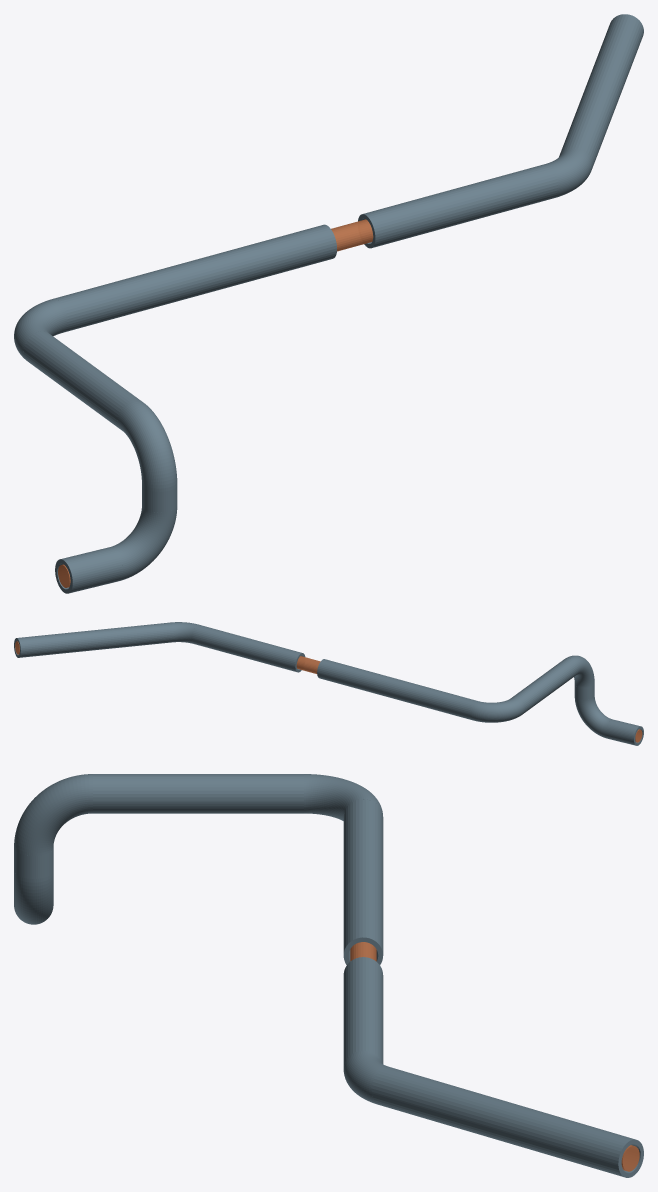
Rendered from L349_CLASS01_NATIVE_FEED_EDU.glb.
The picture shows the model from 3 angles, top to bottom: view 1: azimuth 30°, elevation 25°; view 2: azimuth 150°, elevation 25°; view 3: azimuth 270°, elevation 25°; orthographic projection. The views are drawn at different scales.
Parts seen in each view (by area): view 1: CLASS-01_FEED_LINE_SEG04_NATIVE_L349, CLASS-01_FEED_LINE_SEG04_DOWNSTREAM_L33_NATIVE_EDU_NATIVE_L3, CLASS-01_FEED_LINE_SEG05_NATIVE_L349, CLASS-01_FEED_LINE_SEG03_NATIVE_L349, CLASS-01_FEED_LINE_ELBOW_02_NATIVE_L349, CLASS-01_FEED_LINE_ELBOW_01_NATIVE_L349, CLASS-01_FEED_LINE_SEG01_NATIVE_L349, CLASS-01_FEED_LINE_ELBOW_03_NATIVE_L349, CLASS-01_FEED_LINE_ELBOW_04_NATIVE_L349, CLASS-01_FEED_LINE_FLUID_SEG04_NATIVE_L349; view 2: CLASS-01_FEED_LINE_SEG04_NATIVE_L349, CLASS-01_FEED_LINE_SEG05_NATIVE_L349, CLASS-01_FEED_LINE_SEG04_DOWNSTREAM_L33_NATIVE_EDU_NATIVE_L3, CLASS-01_FEED_LINE_SEG03_NATIVE_L349, CLASS-01_FEED_LINE_ELBOW_03_NATIVE_L349, CLASS-01_FEED_LINE_ELBOW_01_NATIVE_L349, CLASS-01_FEED_LINE_SEG01_NATIVE_L349, CLASS-01_FEED_LINE_ELBOW_02_NATIVE_L349, CLASS-01_FEED_LINE_ELBOW_04_NATIVE_L349, CLASS-01_FEED_LINE_FLUID_SEG04_NATIVE_L349, CLASS-01_FEED_LINE_SEG02_NATIVE_L349; view 3: CLASS-01_FEED_LINE_SEG05_NATIVE_L349, CLASS-01_FEED_LINE_SEG03_NATIVE_L349, CLASS-01_FEED_LINE_SEG04_NATIVE_L349, CLASS-01_FEED_LINE_SEG04_DOWNSTREAM_L33_NATIVE_EDU_NATIVE_L3, CLASS-01_FEED_LINE_ELBOW_02_NATIVE_L349, CLASS-01_FEED_LINE_ELBOW_03_NATIVE_L349, CLASS-01_FEED_LINE_ELBOW_01_NATIVE_L349, CLASS-01_FEED_LINE_ELBOW_04_NATIVE_L349, CLASS-01_FEED_LINE_SEG02_NATIVE_L349.
Part boxes in pixels (<box>): CLASS-01_FEED_LINE_SEG04_NATIVE_L349: <box>54,224,336,332</box>; CLASS-01_FEED_LINE_SEG04_DOWNSTREAM_L33_NATIVE_EDU_NATIVE_L3: <box>358,164,558,248</box>; CLASS-01_FEED_LINE_SEG05_NATIVE_L349: <box>559,14,643,168</box>; CLASS-01_FEED_LINE_SEG03_NATIVE_L349: <box>23,331,141,429</box>; CLASS-01_FEED_LINE_ELBOW_02_NATIVE_L349: <box>118,400,177,491</box>; CLASS-01_FEED_LINE_ELBOW_01_NATIVE_L349: <box>111,506,177,580</box>; CLASS-01_FEED_LINE_SEG01_NATIVE_L349: <box>55,547,122,593</box>; CLASS-01_FEED_LINE_ELBOW_03_NATIVE_L349: <box>14,298,66,360</box>; CLASS-01_FEED_LINE_ELBOW_04_NATIVE_L349: <box>546,148,592,197</box>; CLASS-01_FEED_LINE_FLUID_SEG04_NATIVE_L349: <box>331,219,373,251</box>; CLASS-01_FEED_LINE_SEG04_NATIVE_L349: <box>317,659,476,719</box>; CLASS-01_FEED_LINE_SEG05_NATIVE_L349: <box>14,622,174,657</box>; CLASS-01_FEED_LINE_SEG04_DOWNSTREAM_L33_NATIVE_EDU_NATIVE_L3: <box>191,624,305,672</box>; CLASS-01_FEED_LINE_SEG03_NATIVE_L349: <box>512,658,578,713</box>; CLASS-01_FEED_LINE_ELBOW_03_NATIVE_L349: <box>470,697,524,722</box>; CLASS-01_FEED_LINE_ELBOW_01_NATIVE_L349: <box>574,696,611,738</box>; CLASS-01_FEED_LINE_SEG01_NATIVE_L349: <box>605,719,643,745</box>; CLASS-01_FEED_LINE_ELBOW_02_NATIVE_L349: <box>565,655,594,687</box>; CLASS-01_FEED_LINE_ELBOW_04_NATIVE_L349: <box>171,622,198,643</box>; CLASS-01_FEED_LINE_FLUID_SEG04_NATIVE_L349: <box>296,656,320,673</box>; CLASS-01_FEED_LINE_SEG02_NATIVE_L349: <box>574,685,594,699</box>; CLASS-01_FEED_LINE_SEG05_NATIVE_L349: <box>371,1066,643,1177</box>; CLASS-01_FEED_LINE_SEG03_NATIVE_L349: <box>93,774,303,813</box>; CLASS-01_FEED_LINE_SEG04_NATIVE_L349: <box>343,799,383,964</box>; CLASS-01_FEED_LINE_SEG04_DOWNSTREAM_L33_NATIVE_EDU_NATIVE_L3: <box>343,957,383,1065</box>; CLASS-01_FEED_LINE_ELBOW_02_NATIVE_L349: <box>14,774,92,855</box>; CLASS-01_FEED_LINE_ELBOW_03_NATIVE_L349: <box>304,774,382,820</box>; CLASS-01_FEED_LINE_ELBOW_01_NATIVE_L349: <box>14,871,53,924</box>; CLASS-01_FEED_LINE_ELBOW_04_NATIVE_L349: <box>343,1050,388,1104</box>; CLASS-01_FEED_LINE_SEG02_NATIVE_L349: <box>14,848,53,878</box>.
Bounding box in the file's own units: 26.37 × 5.41 × 15.29.
